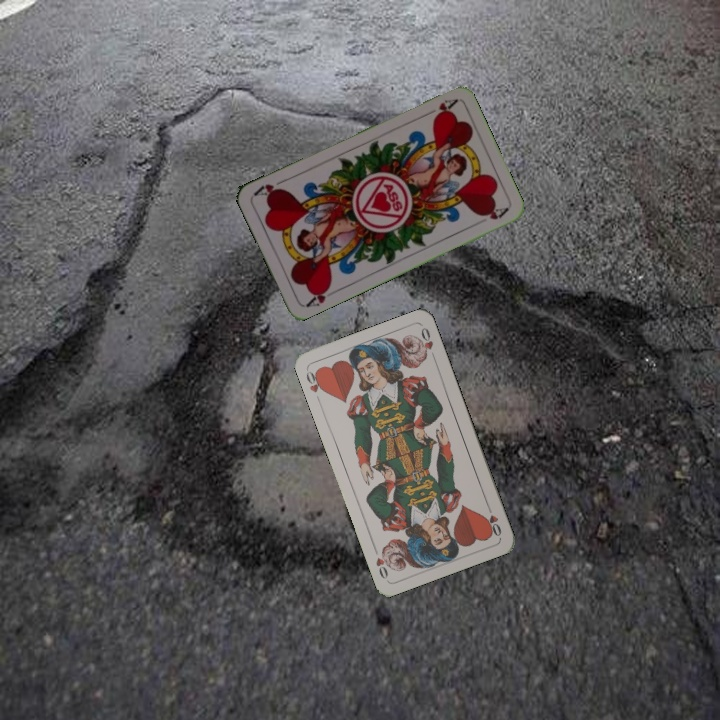HA: (421, 95, 459, 122), (301, 281, 333, 310)
HO: (482, 500, 504, 539), (302, 366, 327, 395)
